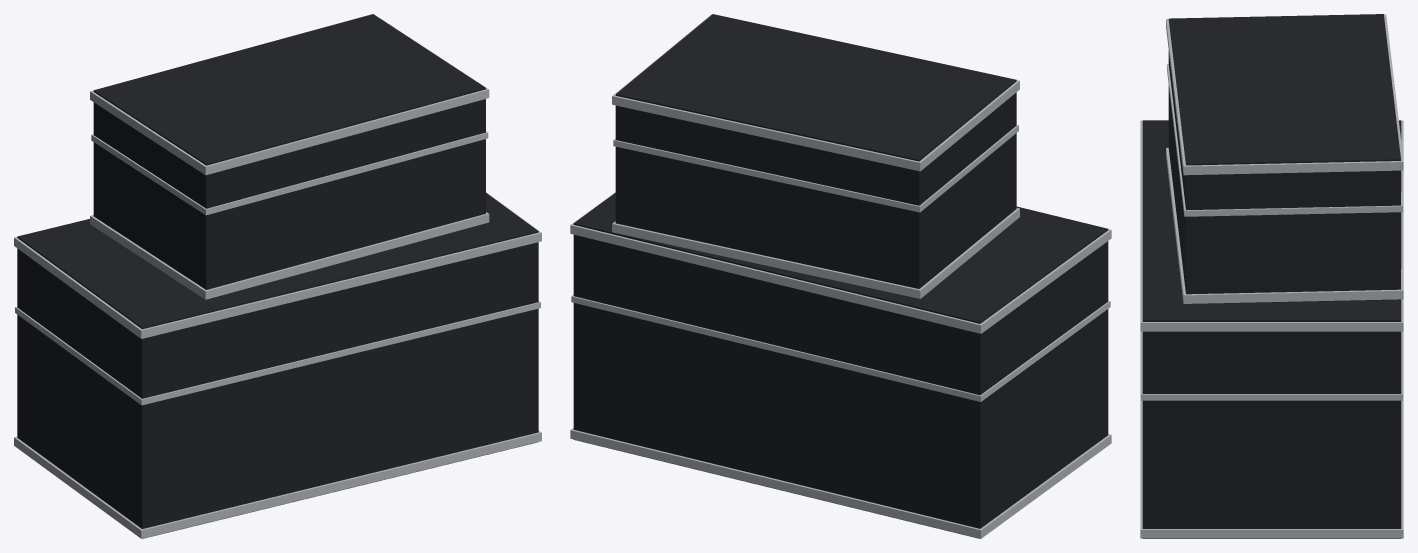
Rendered from lwf_backstage_flight_case_stack_v1.glb.
3 renders of one model, left to right at view 1: azimuth 30°, elevation 25°; view 2: azimuth 150°, elevation 25°; view 3: azimuth 270°, elevation 25°, orthographic. The views are drawn at different scales.
Visible parts, largest first — view 1: LWF_FlightCaseStack; view 2: LWF_FlightCaseStack; view 3: LWF_FlightCaseStack.
Boxes of the visible parts, bbox=[...] form: LWF_FlightCaseStack: bbox=[14, 14, 541, 538]; LWF_FlightCaseStack: bbox=[570, 14, 1111, 538]; LWF_FlightCaseStack: bbox=[1140, 14, 1403, 538].
Size of the model in its own units: 1.11 by 0.92 by 0.612.
1 material, 1 textured.
